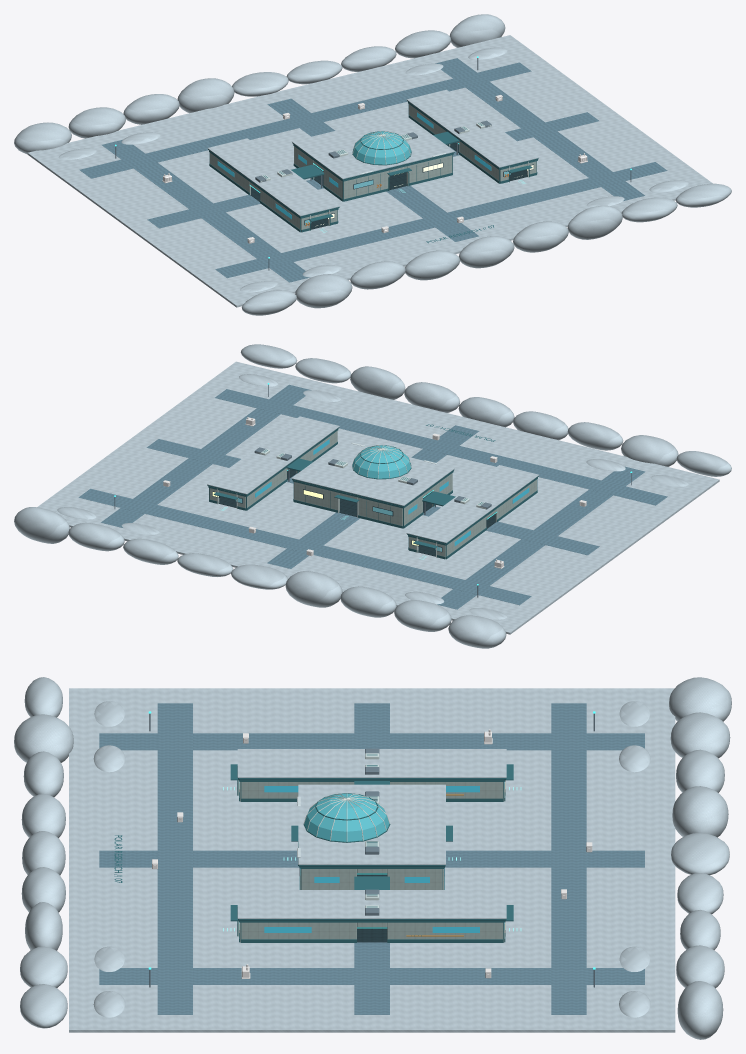
Rendered from snow-high.glb.
The picture shows the model from 3 angles, top to bottom: view 1: azimuth 30°, elevation 25°; view 2: azimuth 150°, elevation 25°; view 3: azimuth 270°, elevation 25°; orthographic projection. The views are drawn at different scales.
Parts seen in each view (by area): view 1: Batched 0.002, Batched 1.002, Batched 7.002, Batched 3.002, Batched 50.001, Concept arctic observatory glass facets.004, Batched 6.002, Batched 2.002; view 2: Batched 0.002, Batched 1.002, Batched 7.002, Batched 3.002, Batched 50.001, Concept arctic observatory glass facets.004, Batched 6.002, Batched 2.002; view 3: Batched 0.002, Batched 1.002, Batched 7.002, Batched 3.002, Batched 50.001, Concept arctic observatory glass facets.004, Batched 6.002, Batched 5.002, Batched 60.001, Batched 8.001, Batched 2.002.
Part boxes in pixels (bbox=[...]): Batched 0.002: bbox=[14, 14, 731, 315]; Batched 1.002: bbox=[79, 58, 667, 282]; Batched 7.002: bbox=[207, 89, 539, 216]; Batched 3.002: bbox=[210, 104, 536, 231]; Batched 50.001: bbox=[209, 102, 537, 243]; Concept arctic observatory glass facets.004: bbox=[353, 131, 411, 164]; Batched 6.002: bbox=[208, 100, 538, 217]; Batched 2.002: bbox=[250, 142, 526, 229]; Batched 0.002: bbox=[14, 344, 731, 648]; Batched 1.002: bbox=[78, 384, 667, 609]; Batched 7.002: bbox=[207, 416, 538, 543]; Batched 3.002: bbox=[209, 431, 536, 558]; Batched 50.001: bbox=[208, 424, 537, 559]; Concept arctic observatory glass facets.004: bbox=[352, 445, 410, 478]; Batched 6.002: bbox=[207, 427, 538, 544]; Batched 2.002: bbox=[219, 469, 495, 556]; Batched 0.002: bbox=[14, 677, 731, 1039]; Batched 1.002: bbox=[99, 703, 644, 1014]; Batched 7.002: bbox=[237, 749, 506, 918]; Batched 3.002: bbox=[239, 782, 504, 942]; Batched 50.001: bbox=[114, 764, 513, 942]; Concept arctic observatory glass facets.004: bbox=[304, 793, 389, 841]; Batched 6.002: bbox=[238, 754, 506, 920]; Batched 5.002: bbox=[239, 782, 504, 932]; Batched 60.001: bbox=[303, 793, 389, 841]; Batched 8.001: bbox=[365, 748, 379, 915]; Batched 2.002: bbox=[357, 873, 387, 942].
Size of the model in its own units: 162 by 17.71 by 142.
22 materials, 4 textured.
